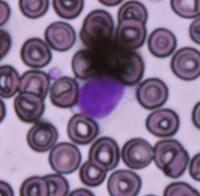L: (72, 76, 132, 122)
